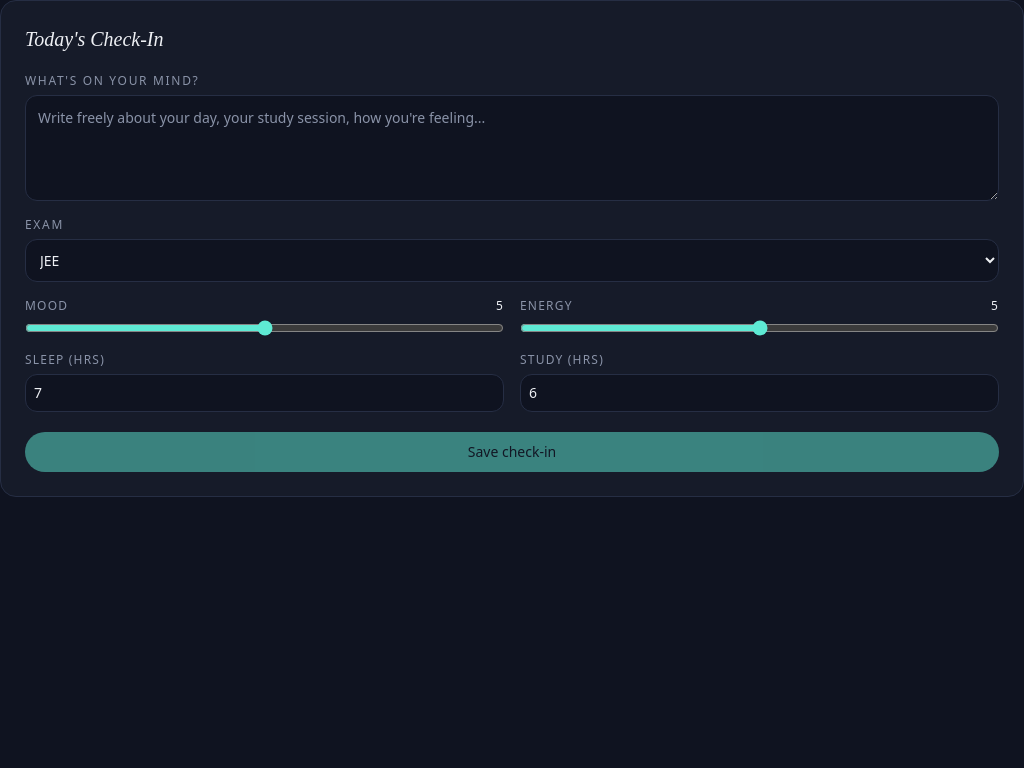
Scenario: CheckinForm › shows an inline error and does not save when the request fails
Type "Test entry." into the text box labelled "What's on your mind?" at (512, 148), box [25, 95, 999, 201]
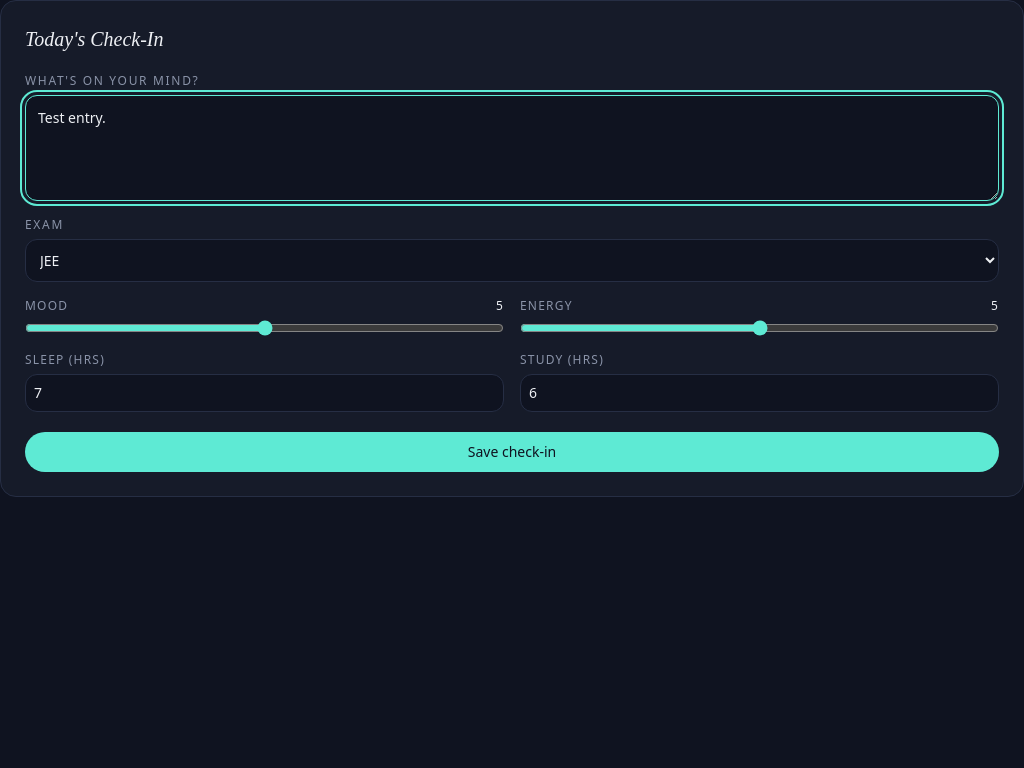
Click the button "Save check-in" at (512, 452), box [25, 432, 999, 472]
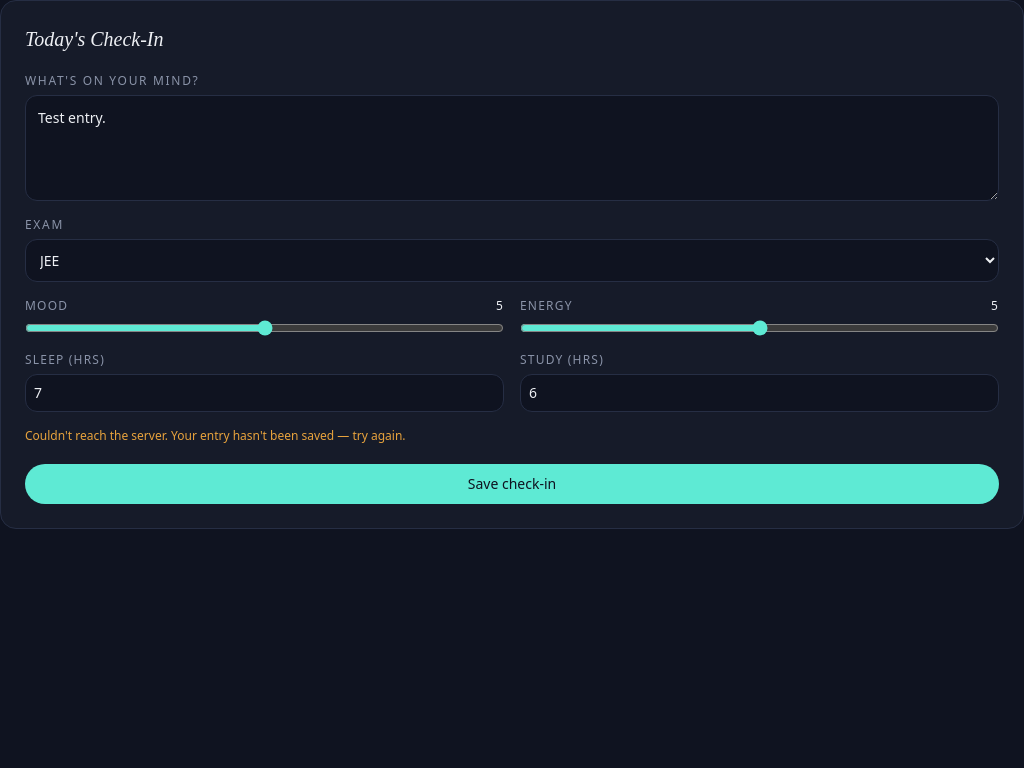
Expected: the message shows "Couldn't reach the server", [25, 427, 406, 444]
